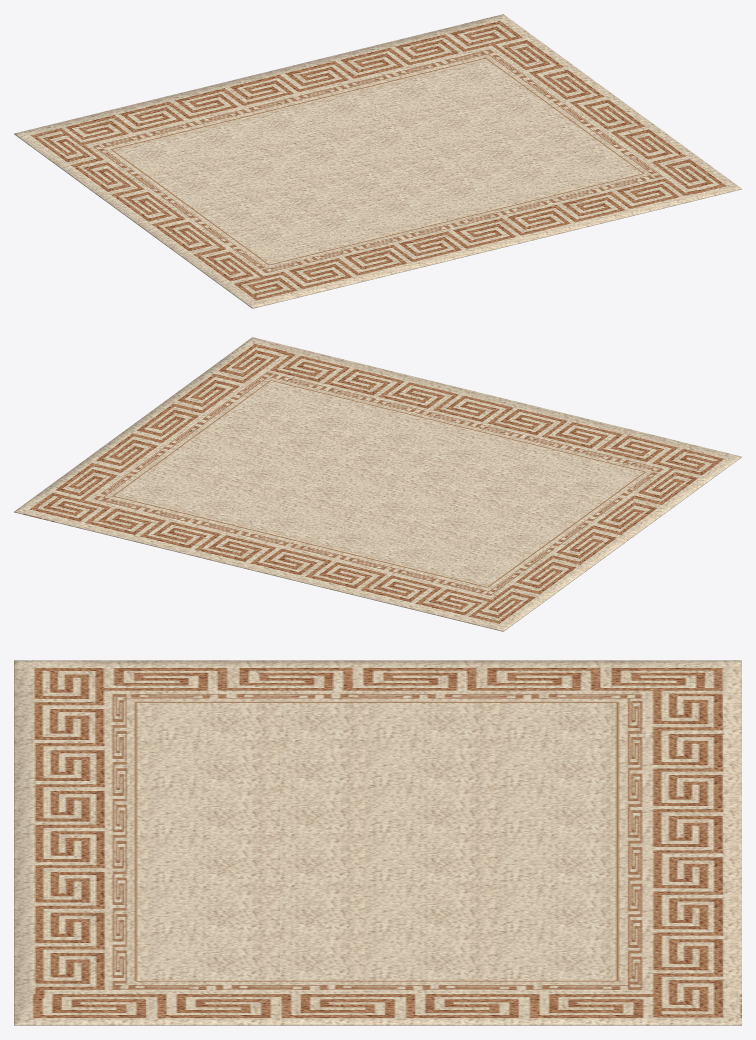
The model's file is chuantongzhoshiditan01.FBX.
3 views of the same model, one above another, from view 1: azimuth 30°, elevation 25°; view 2: azimuth 150°, elevation 25°; view 3: azimuth 270°, elevation 25° (orthographic). The views are drawn at different scales.
Parts seen in each view (by area): view 1: ChamferBox01; view 2: ChamferBox01; view 3: ChamferBox01.
Part boxes in pixels (box(x1,y1,x2,y2)): ChamferBox01: box(14, 14, 741, 308); ChamferBox01: box(14, 337, 741, 631); ChamferBox01: box(14, 660, 741, 1025).
Bounding box in the file's own units: 3555 × 5.78 × 3000.
Materials: 1 (1 with a texture image).
